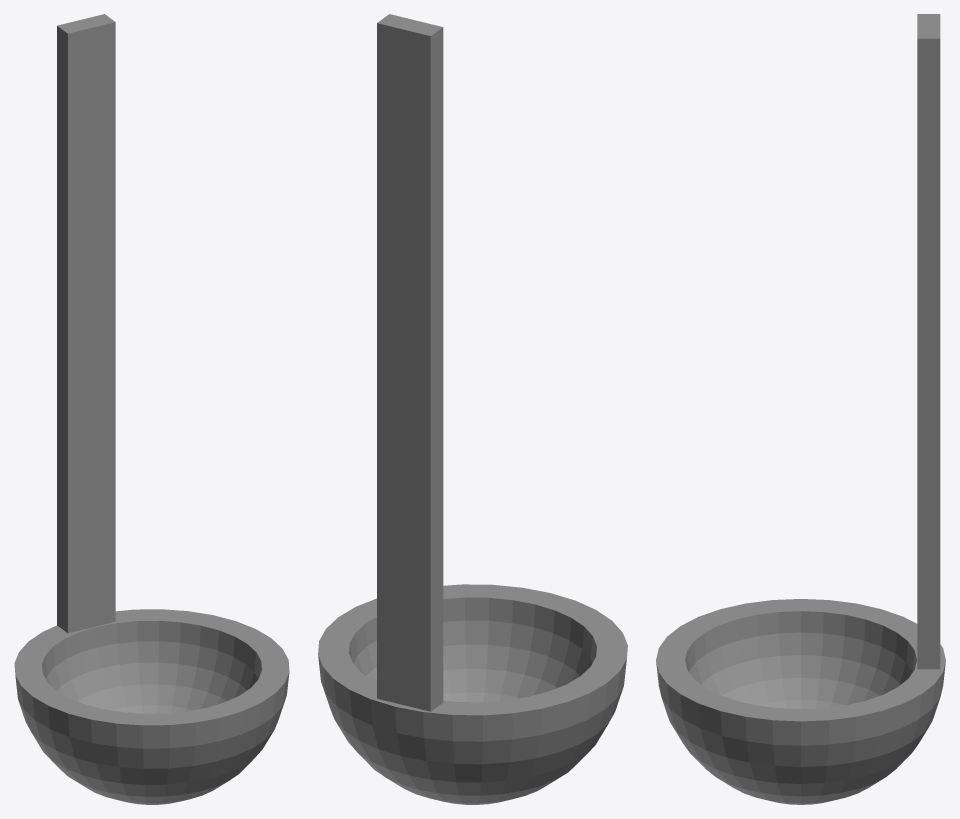
The model's file is ladle.gltf.
3 renders of one model, left to right at view 1: azimuth 30°, elevation 25°; view 2: azimuth 150°, elevation 25°; view 3: azimuth 270°, elevation 25°, orthographic. The views are drawn at different scales.
Parts seen in each view (by area): view 1: 球; view 2: 球; view 3: 球.
Boxes of the visible parts, x1=… form: 球: x1=14, y1=14, x2=289, y2=804; 球: x1=318, y1=14, x2=627, y2=804; 球: x1=656, y1=14, x2=945, y2=804.
Bounding box in the file's own units: 0.5 × 1.45 × 0.5.
1 material, 1 textured.
